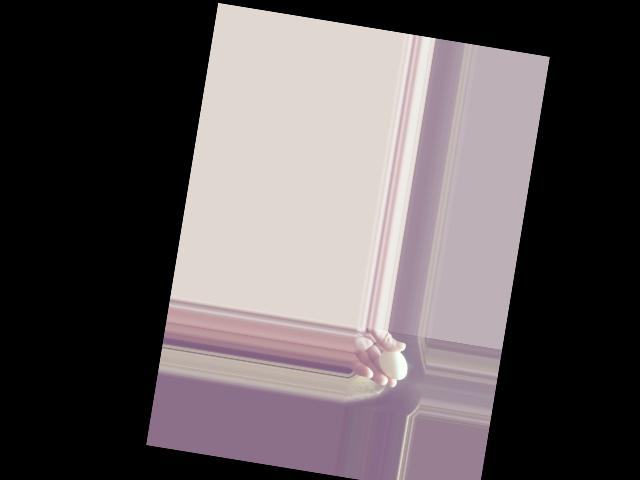egg: (376, 347, 410, 380)
